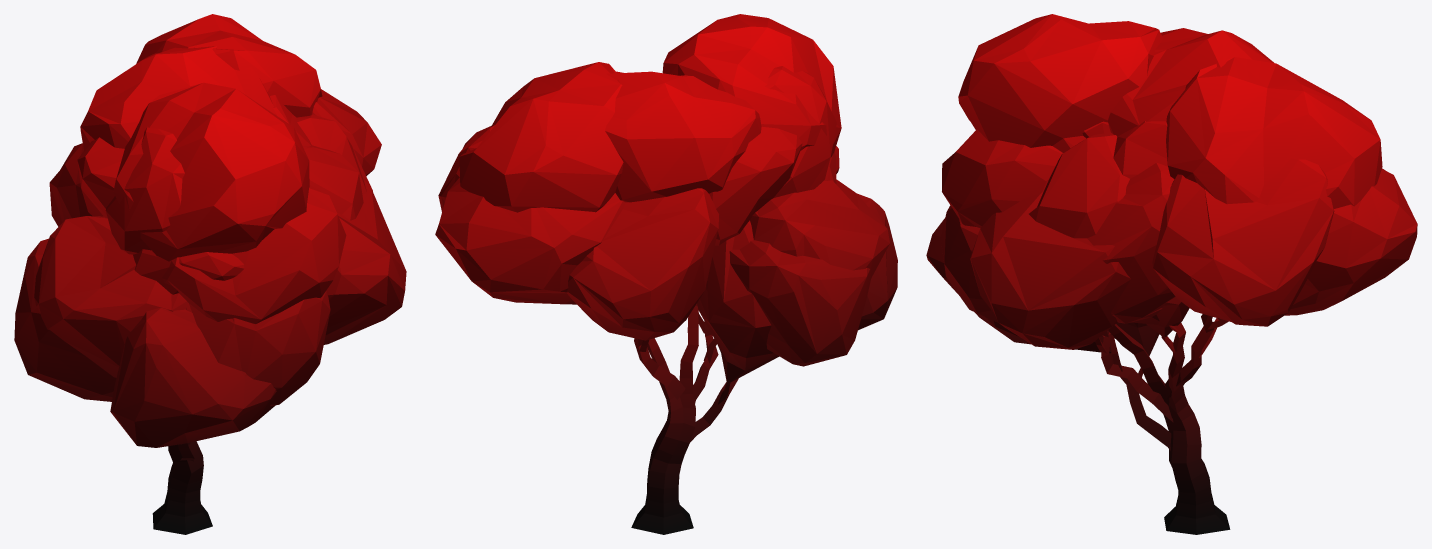
Rendered from TreeMaple07.fbx.
The picture shows the model from 3 angles, left to right: view 1: azimuth 30°, elevation 25°; view 2: azimuth 150°, elevation 25°; view 3: azimuth 270°, elevation 25°; orthographic projection. The views are drawn at different scales.
Visible parts, largest first — view 1: TreeMaple07_LOD0; view 2: TreeMaple07_LOD0; view 3: TreeMaple07_LOD0.
Part boxes in pixels (<box>): TreeMaple07_LOD0: <box>14,14,406,534</box>; TreeMaple07_LOD0: <box>435,14,897,534</box>; TreeMaple07_LOD0: <box>926,14,1417,534</box>.
Size of what is drawn, in the model's own units: 620 by 725 by 658.
